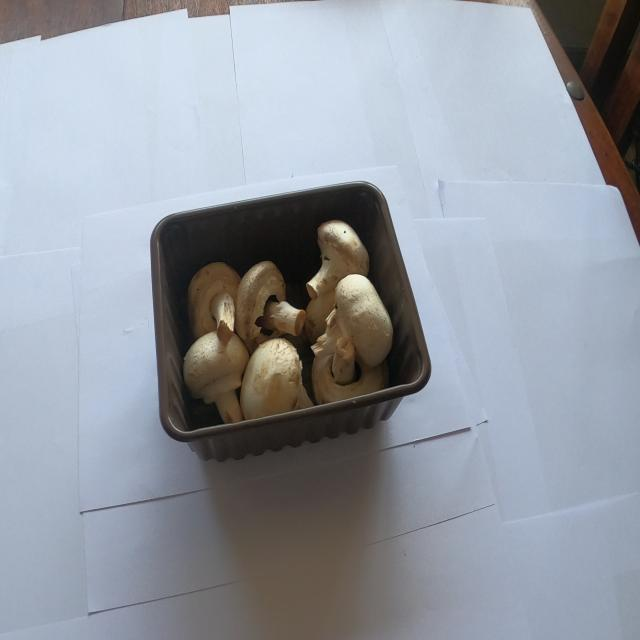Buttonmushroom: (137, 186, 434, 464)
